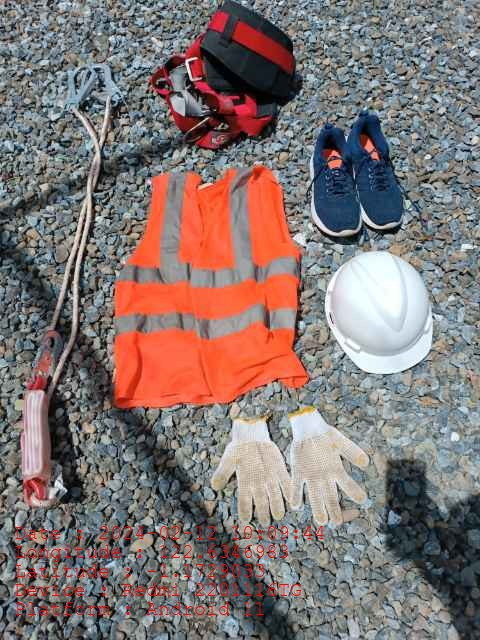HELM: (326, 251, 432, 373)
ROMPI: (117, 167, 302, 407)
SARUNG_TANGAN: (288, 408, 368, 526), (211, 417, 290, 524)
SEPATU: (305, 120, 402, 237)
TAMBANG_SLING: (20, 65, 127, 509)
